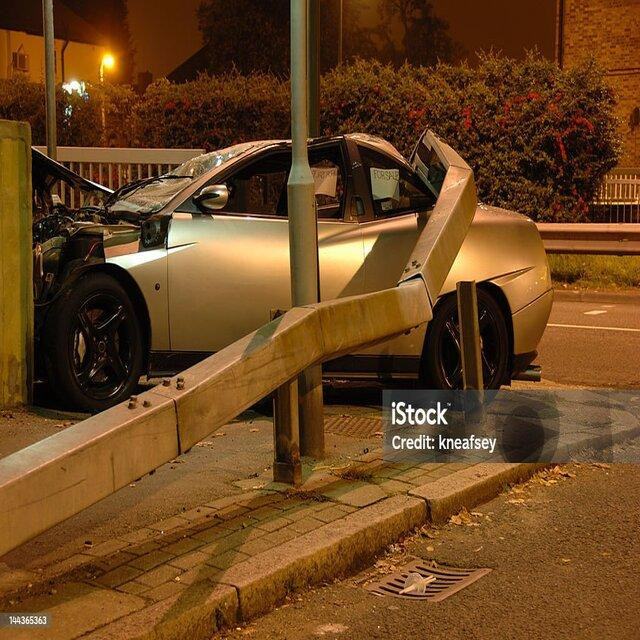Inclined Pole: (0, 124, 481, 561)
